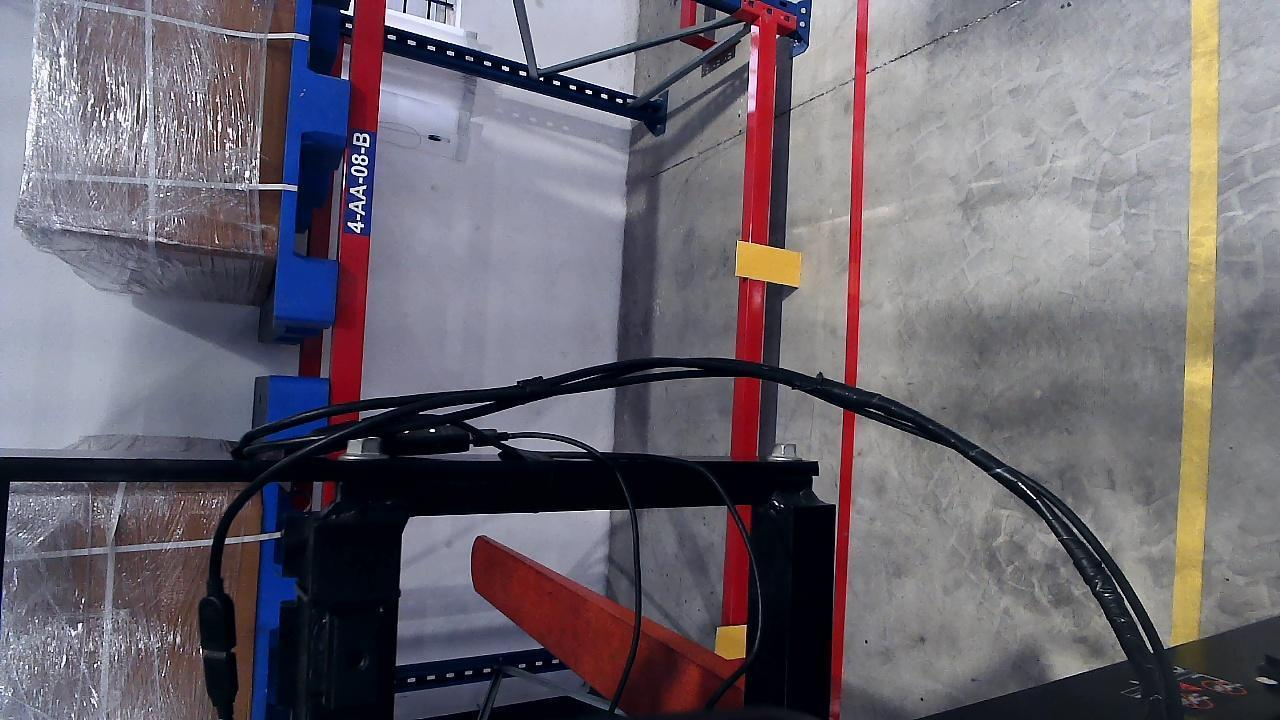red_line: (831, 3, 868, 718)
yellow_line: (1176, 0, 1220, 658)
